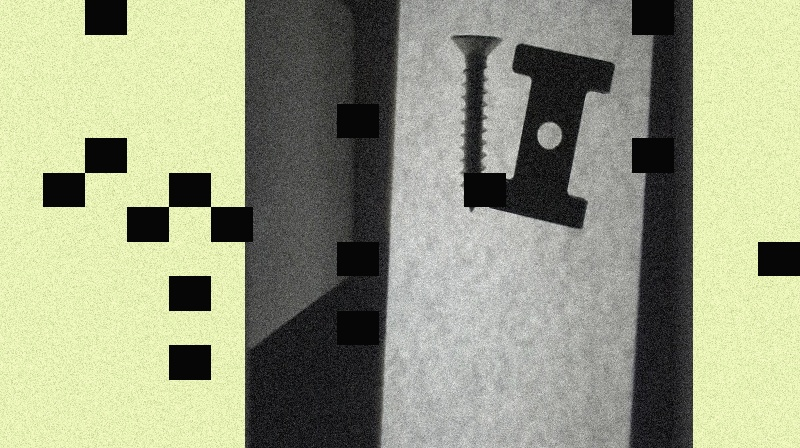O002: (485, 39, 613, 231)
S001: (449, 31, 503, 213)
